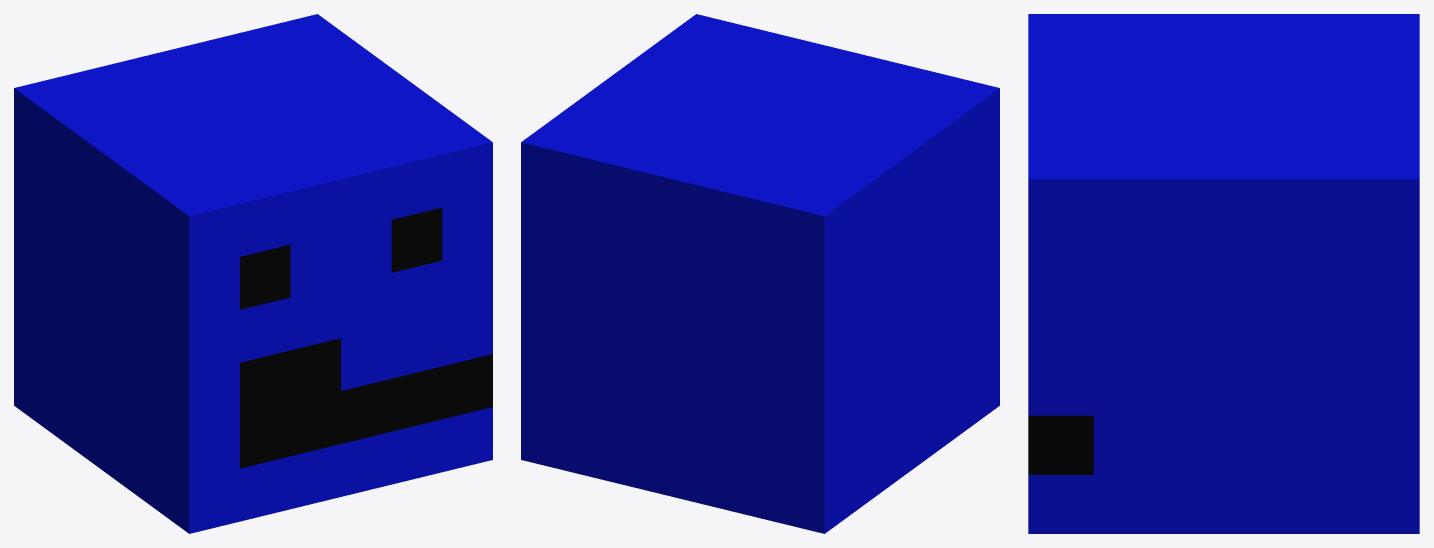
Rendered from HeadTemplate.obj.
The picture shows the model from 3 angles, left to right: view 1: azimuth 30°, elevation 25°; view 2: azimuth 150°, elevation 25°; view 3: azimuth 270°, elevation 25°; orthographic projection. The views are drawn at different scales.
Bounding box in the file's own units: 0.6 × 0.6 × 0.6.
1 material, 1 textured.
